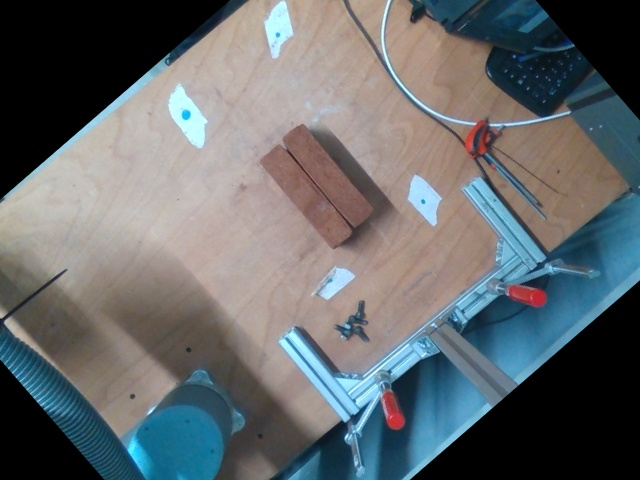brick-side: (280, 123, 374, 226), (260, 146, 353, 248)
